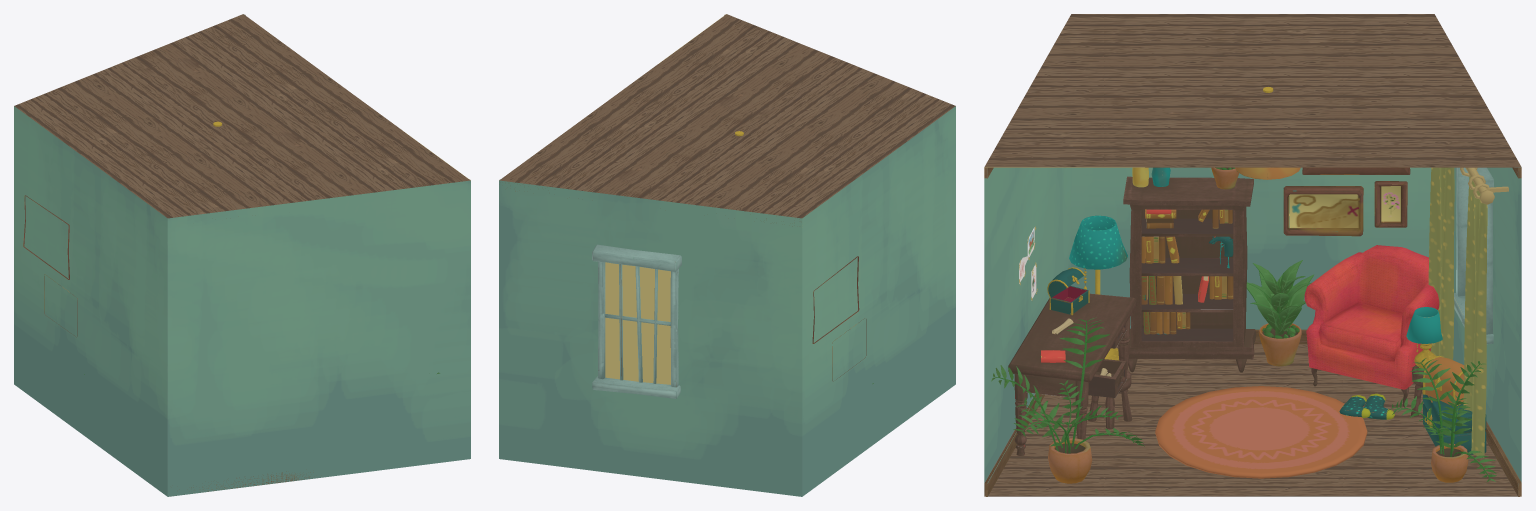
Rendered from room.glb.
3 views of the same model, side by side, from view 1: azimuth 30°, elevation 25°; view 2: azimuth 150°, elevation 25°; view 3: azimuth 270°, elevation 25° (orthographic). The views are drawn at different scales.
Parts seen in each view (by area): view 1: Cube.006; view 2: Cube.006, prop_book_03_inst_002; view 3: Cube.006, Cylinder, Cylinder.004, prop_book_03_inst_002, Cylinder.008, Snake Plant.003, Cylinder.001.
Boxes of the visible parts, left/top/right/bottom form: Cube.006: left=14, top=14, right=470, bottom=496; Cube.006: left=499, top=14, right=955, bottom=496; prop_book_03_inst_002: left=735, top=131, right=866, bottom=381; Cube.006: left=984, top=14, right=1521, bottom=496; Cylinder: left=1008, top=176, right=1439, bottom=455; Cylinder.004: left=1155, top=167, right=1508, bottom=478; prop_book_03_inst_002: left=1019, top=87, right=1486, bottom=454; Cylinder.008: left=991, top=317, right=1144, bottom=483; Snake Plant.003: left=1211, top=167, right=1313, bottom=366; Cylinder.001: left=1387, top=358, right=1496, bottom=482.
Size of the model in its own units: 463 by 445 by 651.
5 materials, 5 textured.
